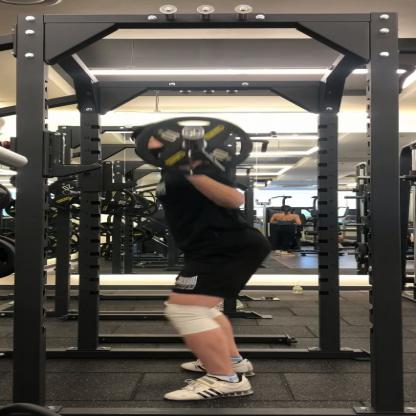Barbell: (128, 112, 257, 181)
